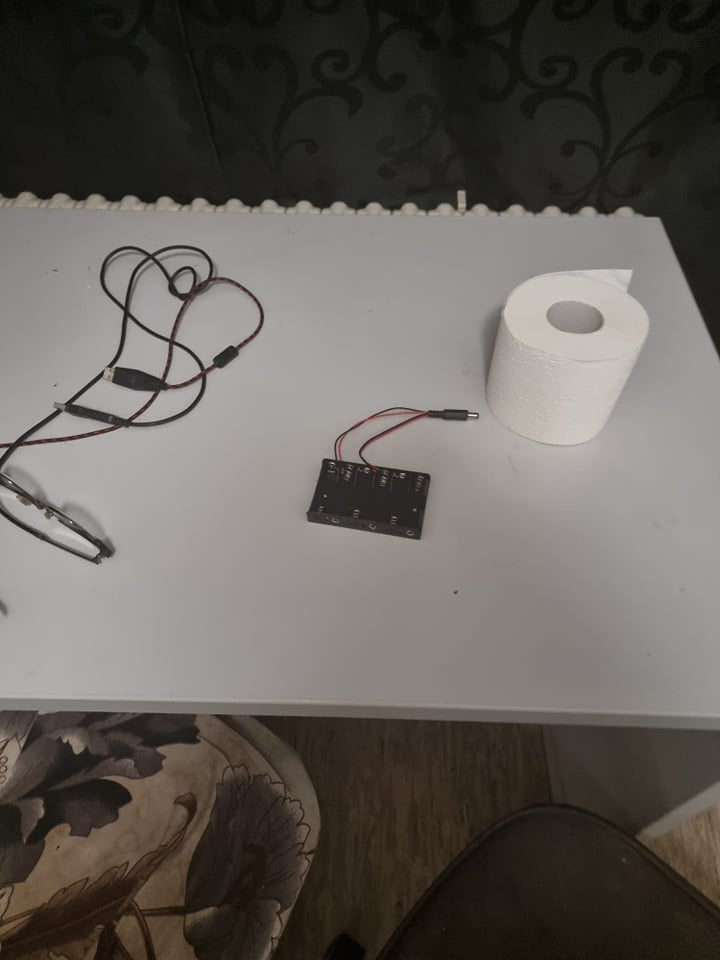BATTERY BOX: (303, 462, 439, 541)
